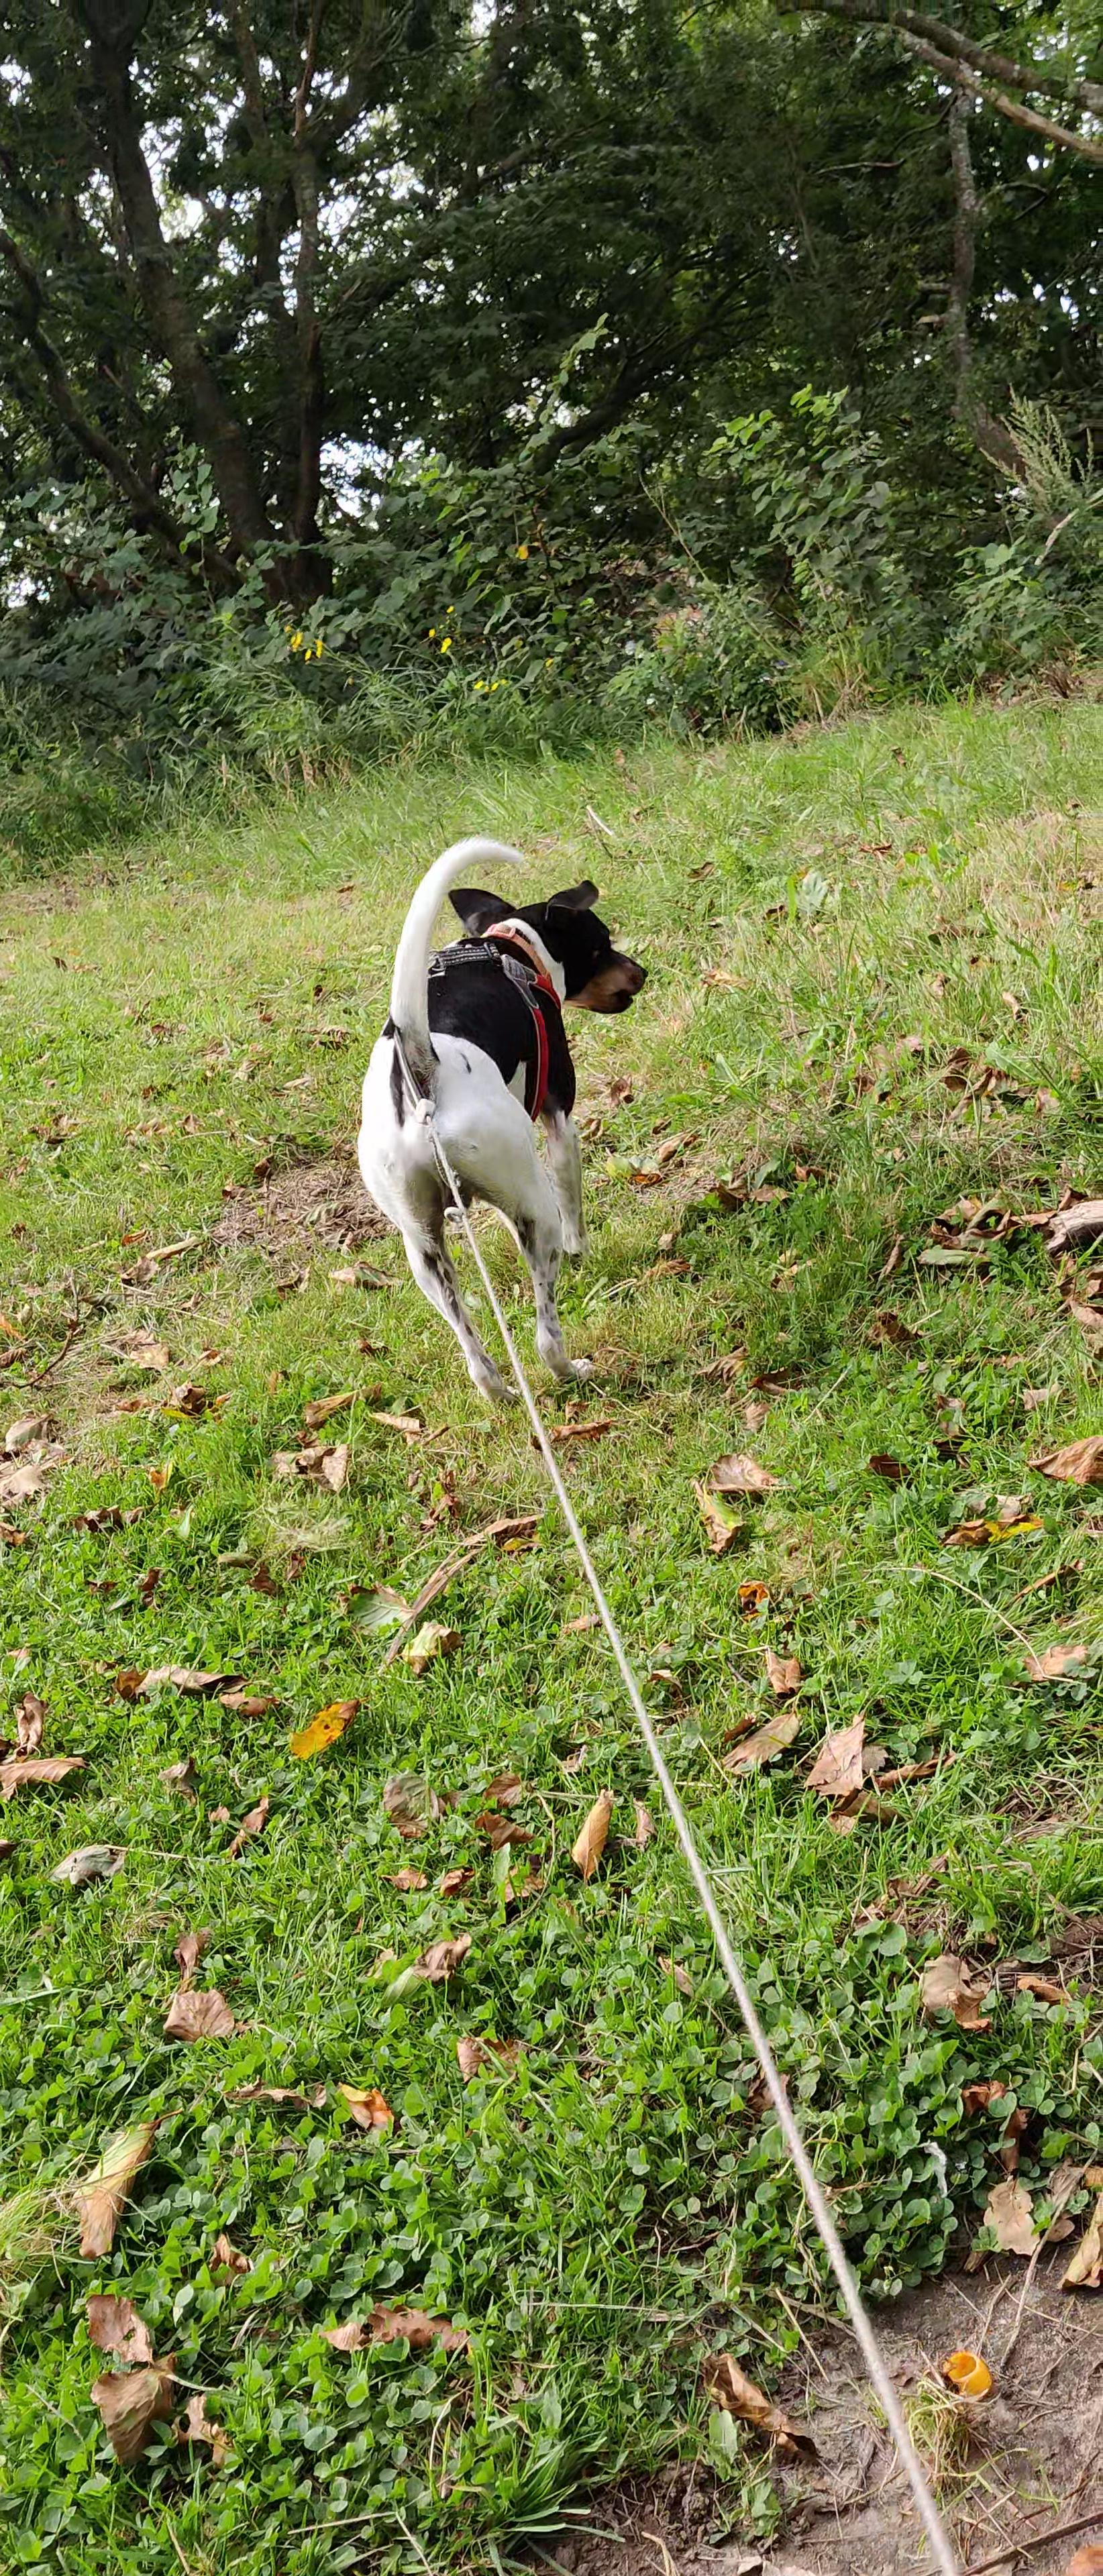Dog: (344, 826, 664, 1429)
